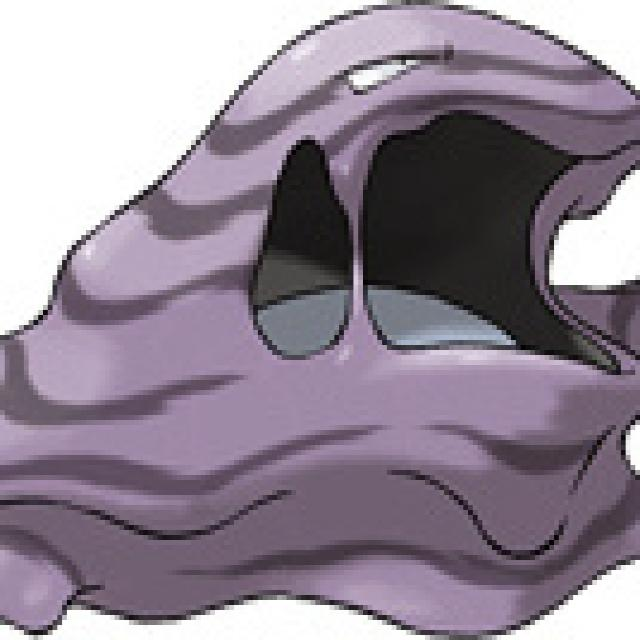Muk: (155, 9, 640, 550)
